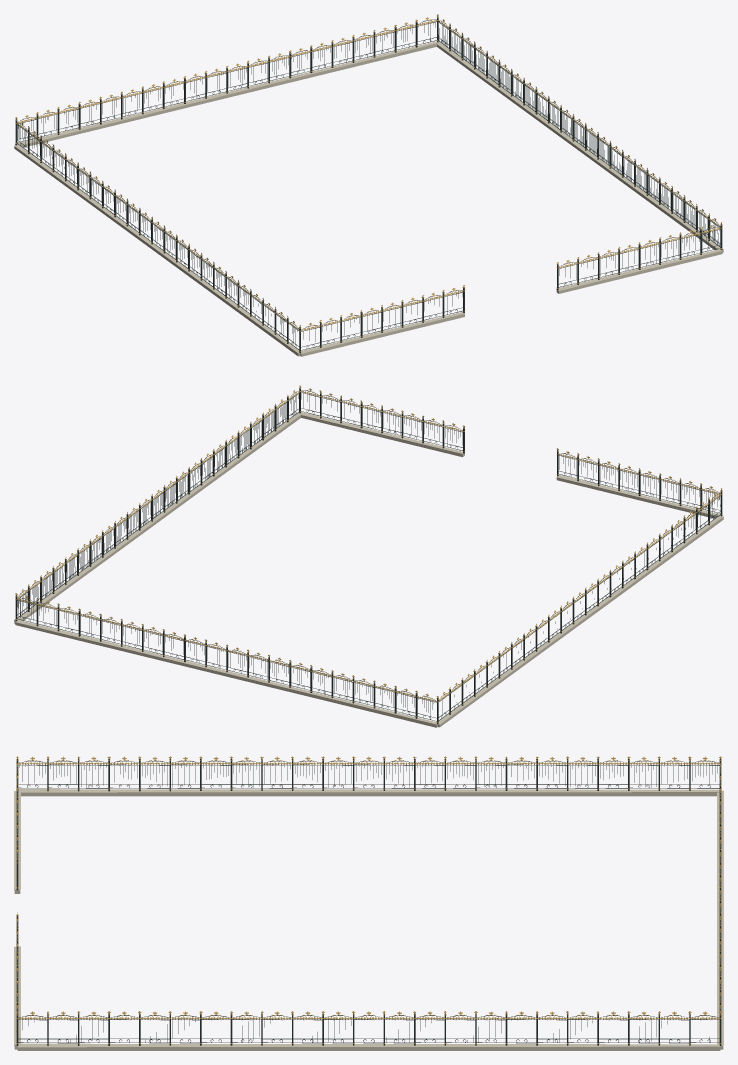
File: royalFenceFar.glb
3 views of the same model, one above another, from view 1: azimuth 30°, elevation 25°; view 2: azimuth 150°, elevation 25°; view 3: azimuth 270°, elevation 25° (orthographic). The views are drawn at different scales.
Parts seen in each view (by area): view 1: Enceinte complete - fer forge et couronnements dores.003; view 2: Enceinte complete - fer forge et couronnements dores.003; view 3: Enceinte complete - fer forge et couronnements dores.003.
Part boxes in pixels (bbox=[...]): Enceinte complete - fer forge et couronnements dores.003: bbox=[14, 14, 723, 356]; Enceinte complete - fer forge et couronnements dores.003: bbox=[14, 385, 723, 727]; Enceinte complete - fer forge et couronnements dores.003: bbox=[14, 756, 723, 1050].
Size of the model in its own units: 60.7 by 4.27 by 70.7.
